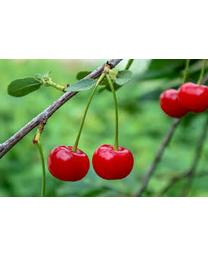cherry: (47, 145, 91, 182), (93, 143, 134, 181), (158, 89, 191, 118), (177, 81, 207, 112)
